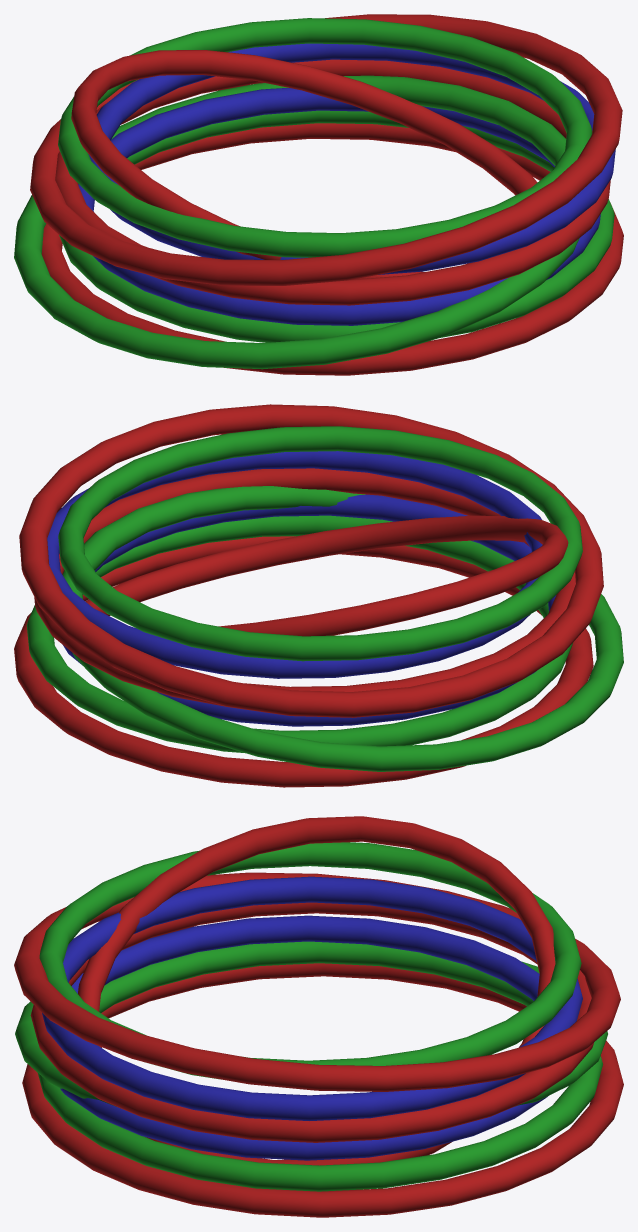
The model's file is line_small.FBX.
The picture shows the model from 3 angles, top to bottom: view 1: azimuth 30°, elevation 25°; view 2: azimuth 150°, elevation 25°; view 3: azimuth 270°, elevation 25°; orthographic projection. The views are drawn at different scales.
Visible parts, largest first — view 1: Circle008, Circle007, Circle006, Circle009, Circle004, Circle001, Circle003, Circle002, Circle005; view 2: Circle008, Circle007, Circle006, Circle009, Circle002, Circle001, Circle005, Circle004, Circle003; view 3: Circle002, Circle005, Circle001, Circle008, Circle003, Circle007, Circle004, Circle009, Circle006.
Boxes of the visible parts, x1,y1,x2,y2 form: Circle008: [30, 14, 622, 285]; Circle007: [58, 18, 592, 257]; Circle006: [14, 75, 579, 369]; Circle009: [71, 50, 537, 279]; Circle004: [55, 59, 610, 305]; Circle001: [41, 123, 623, 375]; Circle003: [78, 88, 600, 325]; Circle002: [59, 110, 614, 342]; Circle005: [88, 43, 615, 274]; Circle008: [19, 404, 603, 717]; Circle007: [58, 426, 582, 661]; Circle006: [62, 486, 623, 771]; Circle009: [85, 515, 568, 636]; Circle002: [26, 515, 573, 752]; Circle001: [14, 536, 593, 787]; Circle005: [47, 451, 542, 678]; Circle004: [34, 468, 575, 706]; Circle003: [62, 494, 556, 726]; Circle002: [38, 941, 602, 1191]; Circle005: [42, 876, 582, 1120]; Circle001: [22, 963, 623, 1217]; Circle008: [14, 872, 620, 1091]; Circle003: [60, 915, 547, 1160]; Circle007: [39, 842, 581, 1079]; Circle004: [30, 902, 593, 1142]; Circle009: [78, 816, 555, 1165]; Circle006: [15, 961, 607, 1106].
Size of the model in its own units: 244 by 73.24 by 235.
